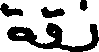ة: (0, 0, 31, 45)
ق: (40, 5, 63, 50)
ن: (78, 0, 97, 50)
